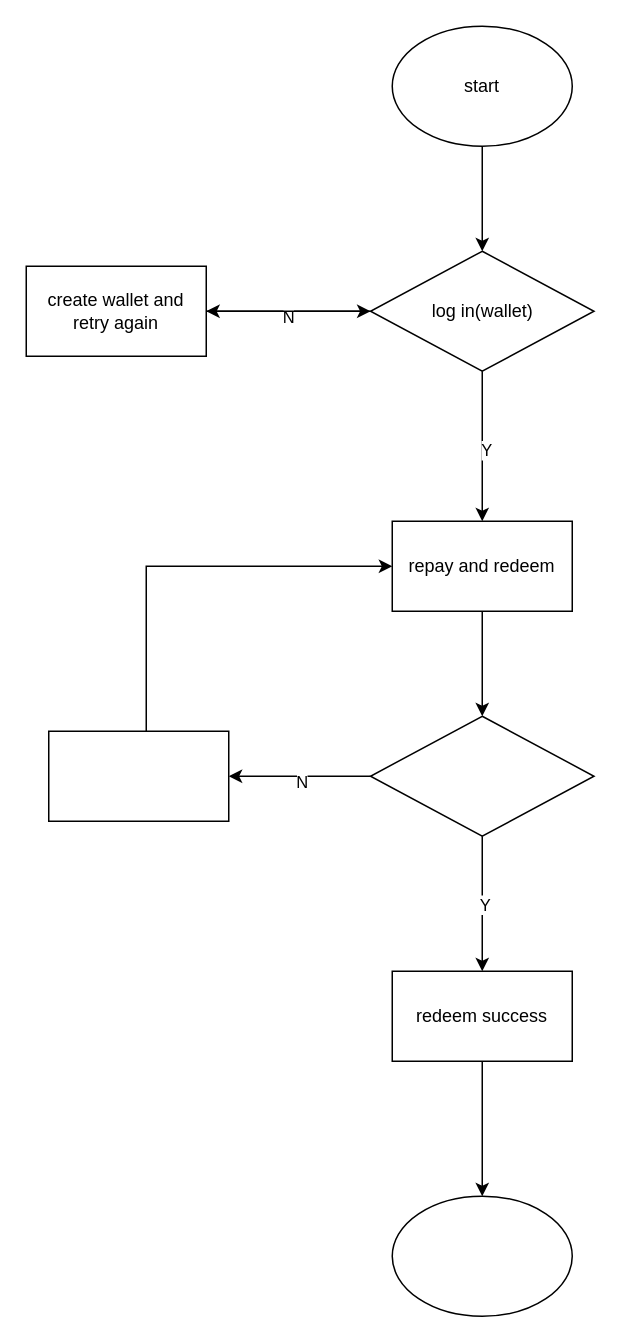
This 621x1343 diagram has some shape labels left out. The shapes that lost their labels are listed below. From the top down, each one's centre as x and y in pixels, then its label:
At point 138,775: "usdc is not enough".
At point 481,775: "repay usdc redeem ore".
At point 481,1255: "end".
